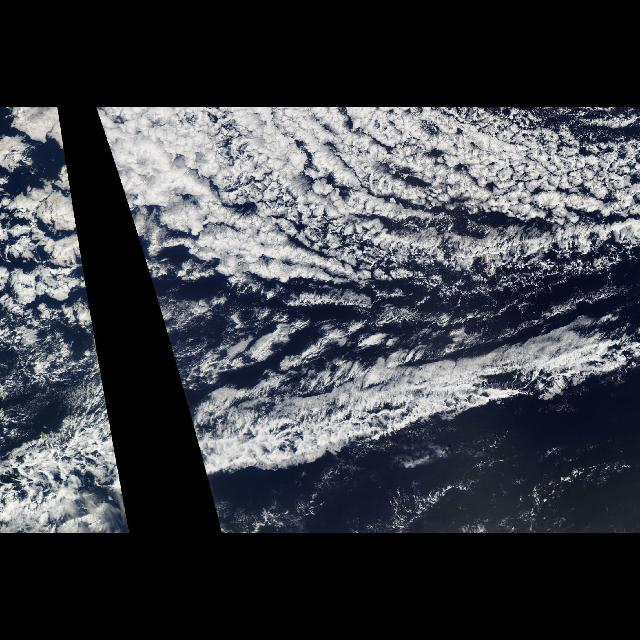Fish: (175, 320, 640, 464)
